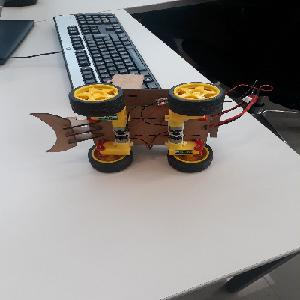Robot: (29, 74, 224, 173)
